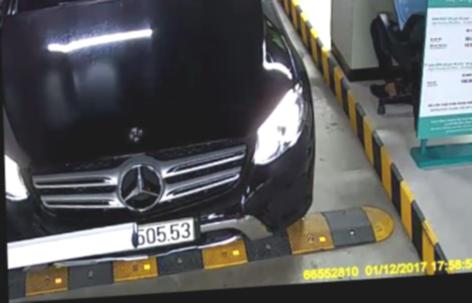License_Plate: (100, 220, 199, 250)
